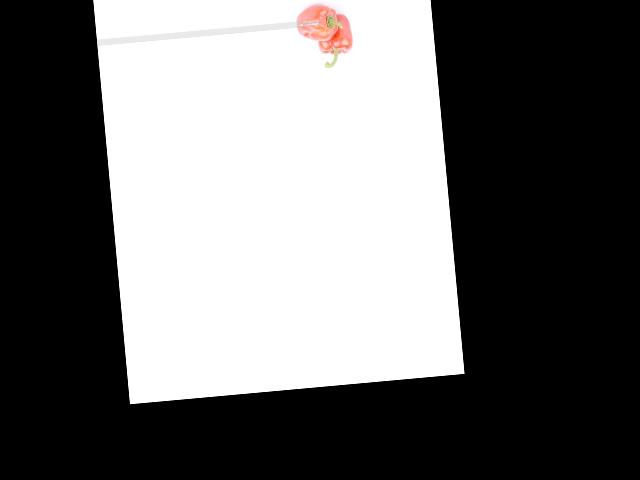bell_pepper: (289, 3, 342, 46)
